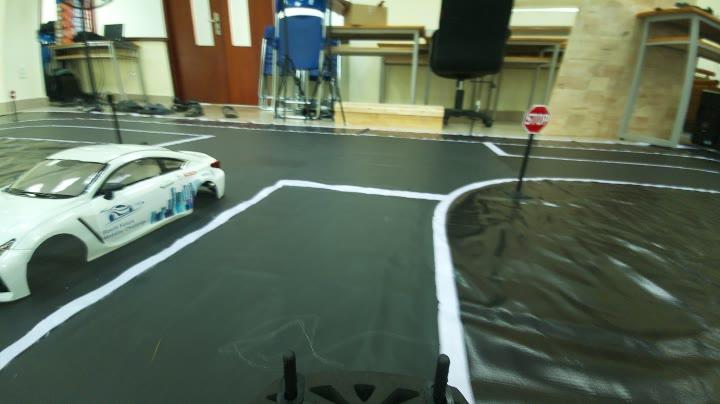car: (6, 149, 236, 309)
stop: (520, 100, 554, 139)
